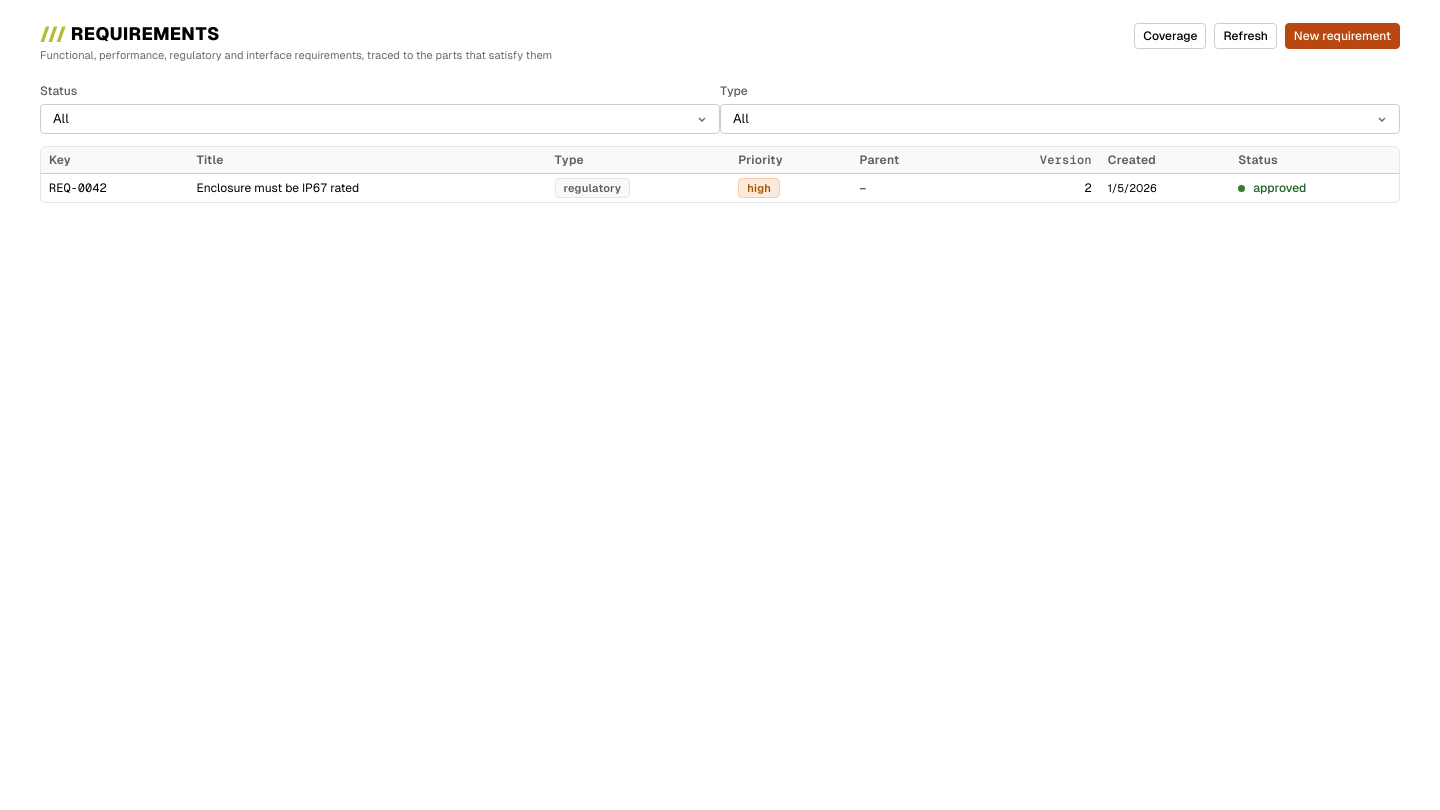
Test case: RequirementsScreen › shows the coverage view with real uncovered requirements, paginated with a true total
Expected: the text "REQ-0042" is shown, [49,181,107,195]
Click the button "Coverage". click: (1170, 36)
box: [1134,23,1206,49]
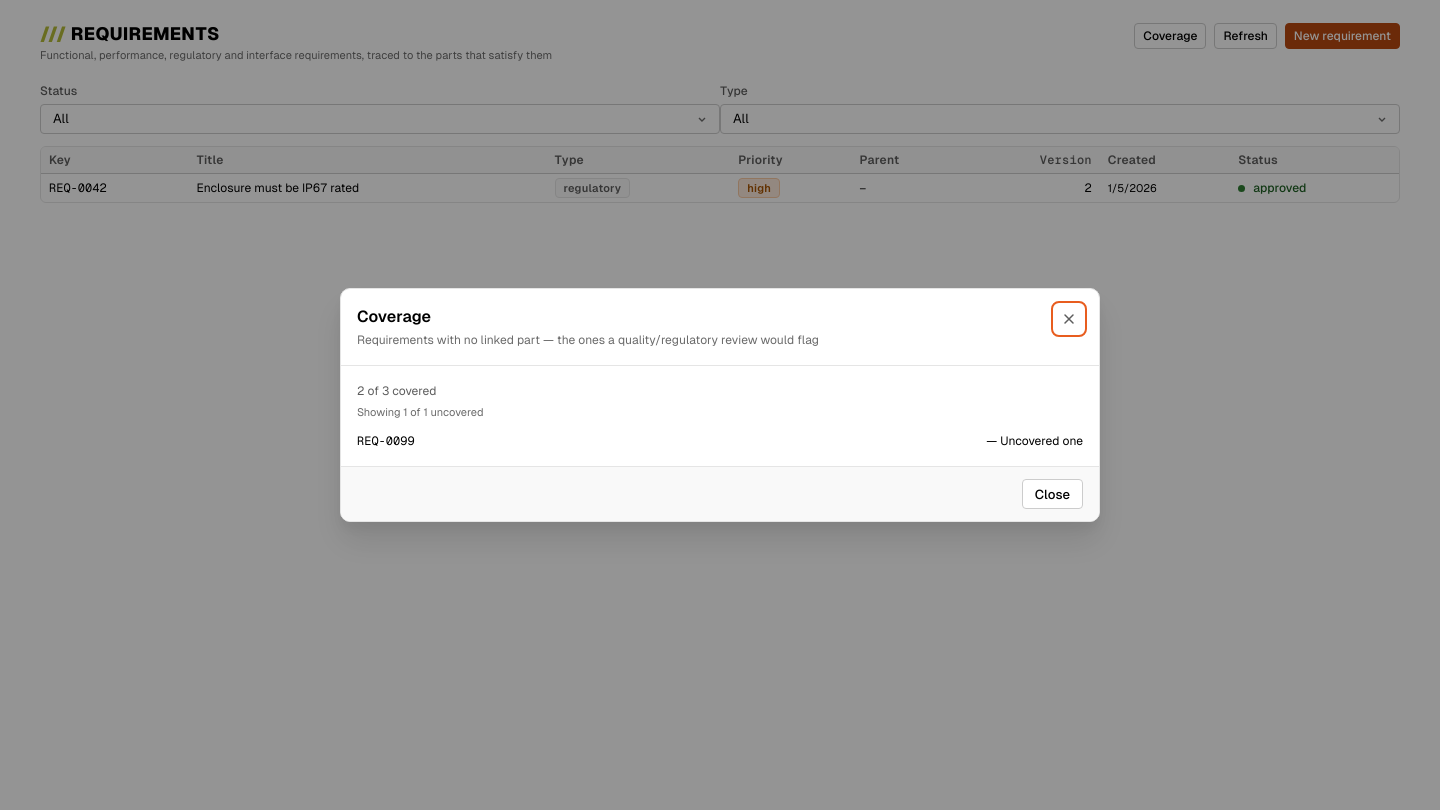
Expected: the text "REQ-0099" is shown, [357,432,415,450]
Expected: the list item "REQ-0099 — Uncovered one" is shown, [357,432,1083,450]
Expected: the text "Showing 1 of 1 uncovered" is shown, [357,406,484,418]
